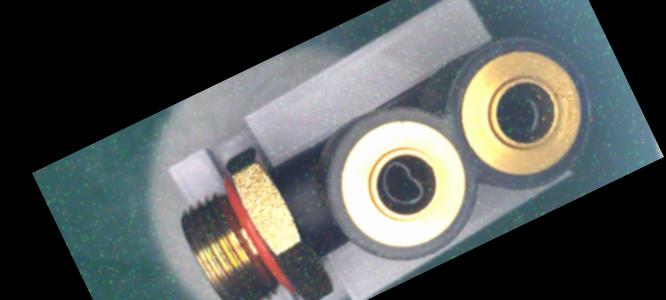off-centered: (369, 149, 435, 218), (491, 85, 550, 148)
